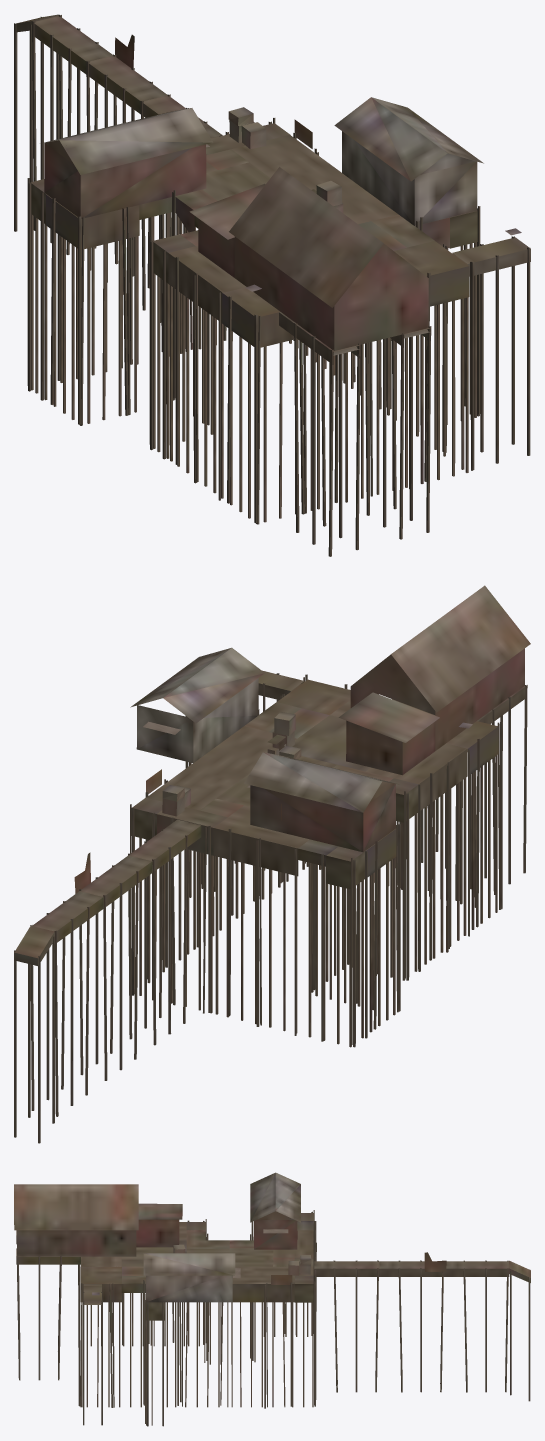
Rendered from fishing_village_c-map.glb.
3 renders of one model, top to bottom at view 1: azimuth 30°, elevation 25°; view 2: azimuth 150°, elevation 25°; view 3: azimuth 270°, elevation 25°, orthographic. The views are drawn at different scales.
Parts seen in each view (by area): view 1: fishing_village_c_hlod; view 2: fishing_village_c_hlod; view 3: fishing_village_c_hlod.
Boxes of the visible parts, x1,y1,x2,y2 form: fishing_village_c_hlod: (14,14,530,556); fishing_village_c_hlod: (14,585,530,1143); fishing_village_c_hlod: (14,1172,530,1426).
Bounding box in the file's own units: 30.13 × 29.18 × 71.72.
1 material, 1 textured.
